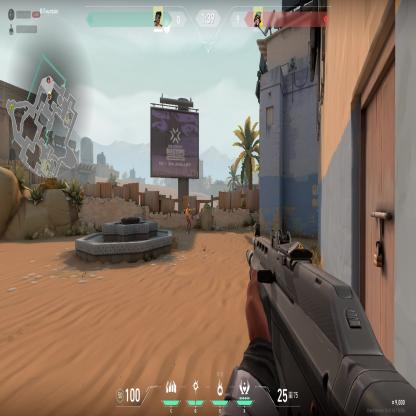enemy: (184, 202, 194, 236)
